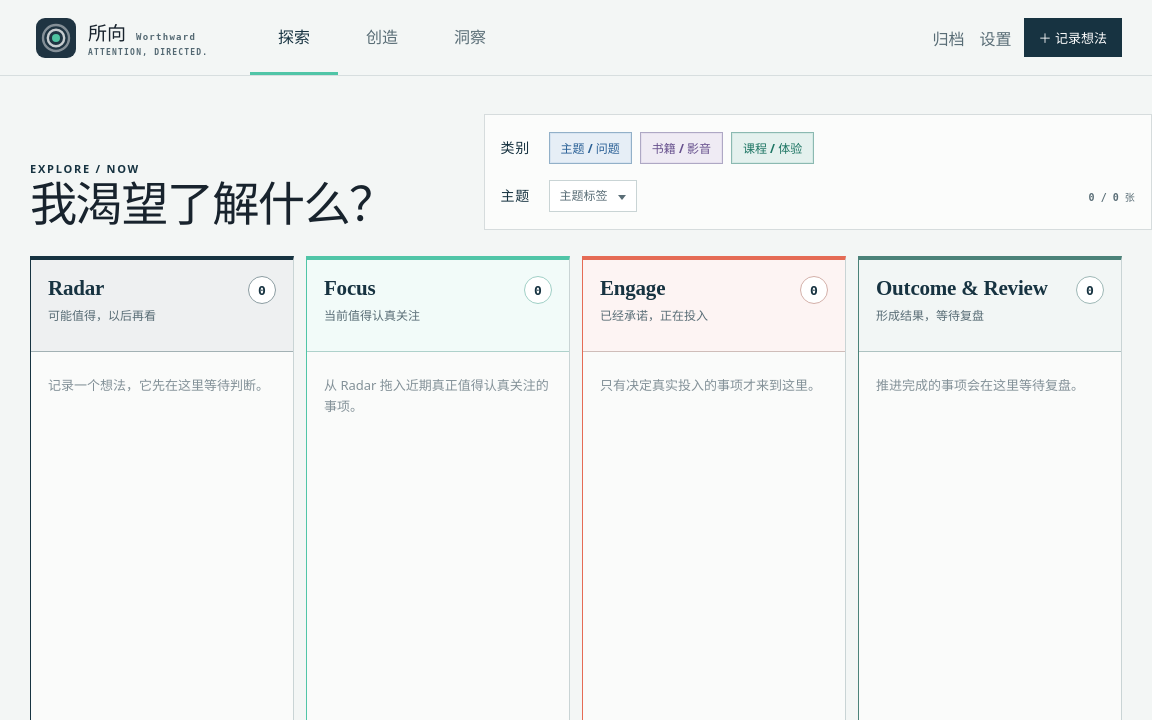
it: attention workbench interface › keeps rename and deletion isolated to the edited board
The image size is (1152, 720).
Step 1. Click the button with aria-label "打开设置" → (996, 38), box [977,18,1015,58]
(page scrolled)
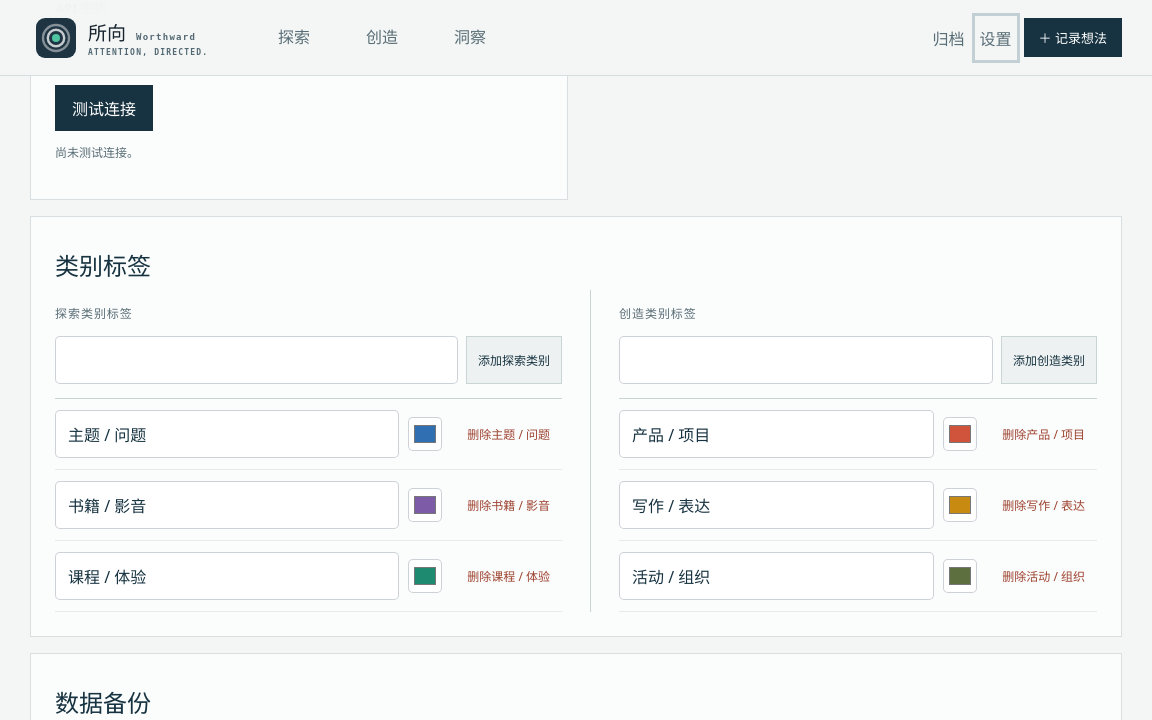
Step 2. Type "产品 / 项目" into the field named "新增探索类别" → (256, 360), box [55,336,458,384]
Step 3. Click the button "添加探索类别" → (514, 360), box [466,336,562,384]
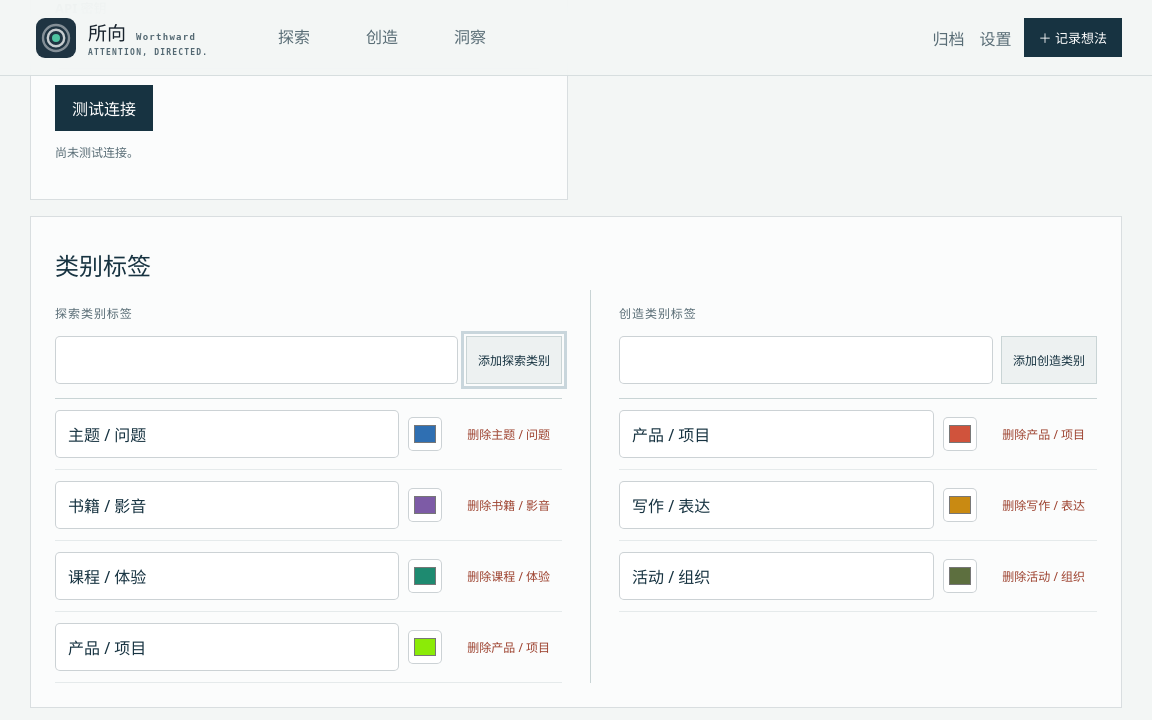
Step 4. Replace the text in the field named "探索类别名称：产品 / 项目" with "实践项目" → (227, 647), box [55,623,399,671]
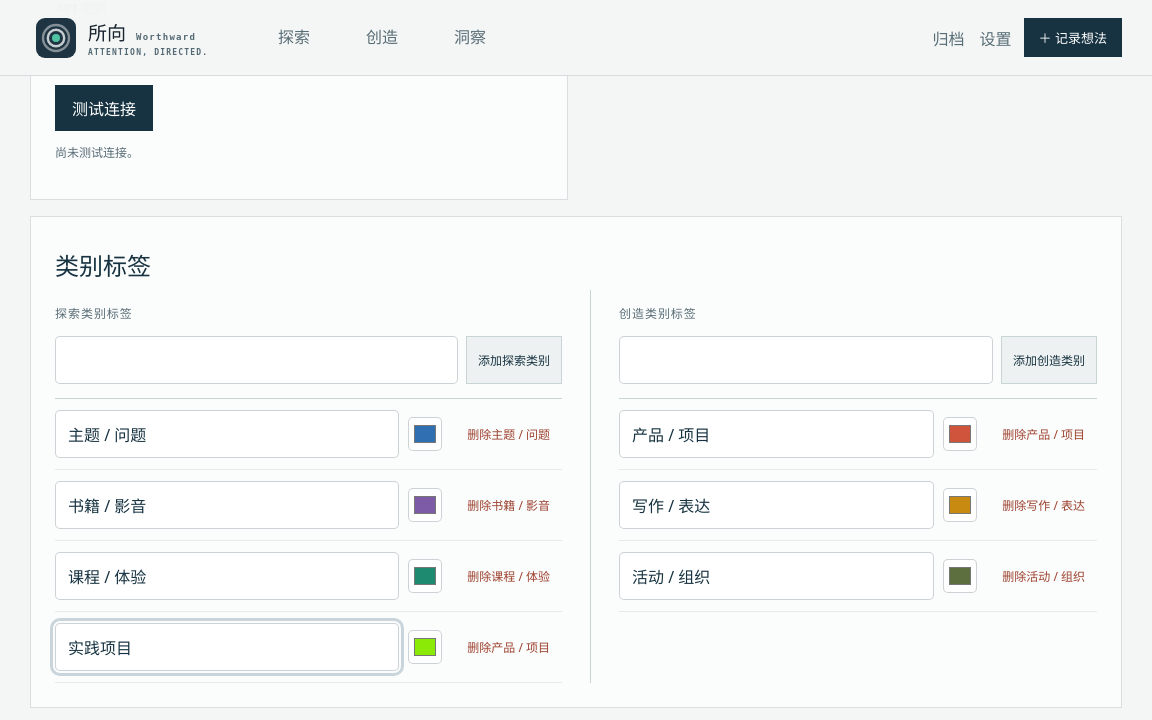
Step 5. Press Tab
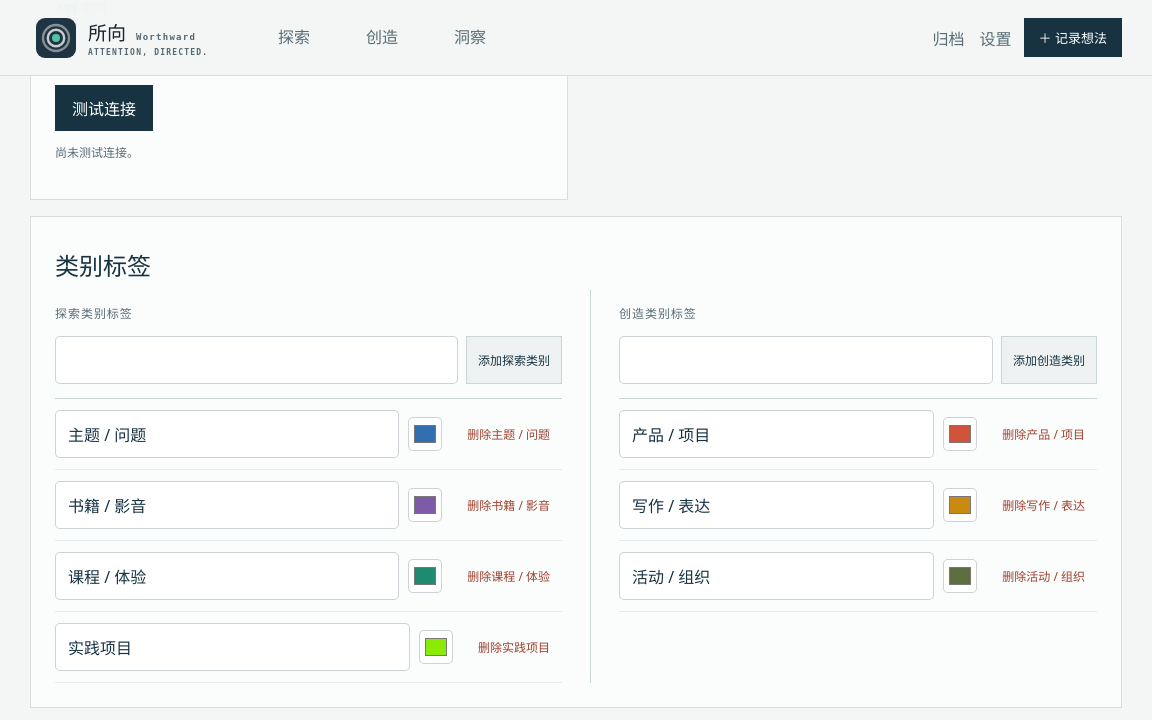
Expected: the field named "创造类别名称：产品 / 项目" is shown, [619,410,934,458]
Step 6. Click the button "删除实践项目" → (514, 647), box [466,629,562,665]
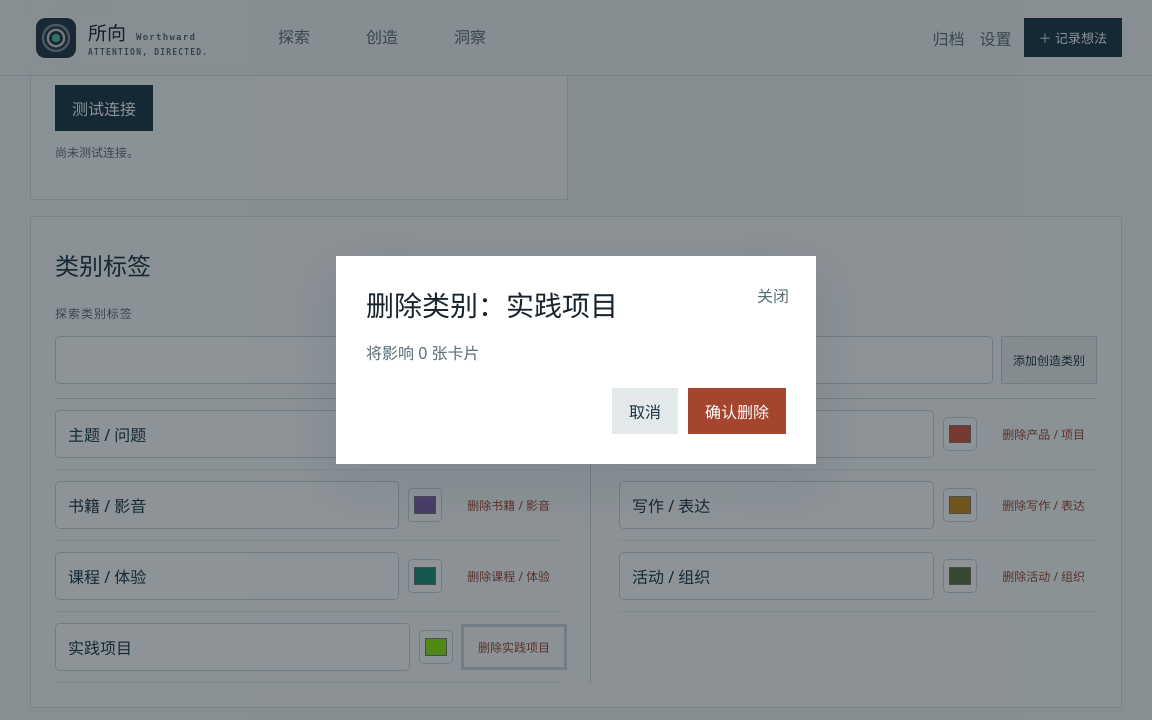
Step 7. Click the button "确认删除" → (737, 411), box [688,388,786,434]
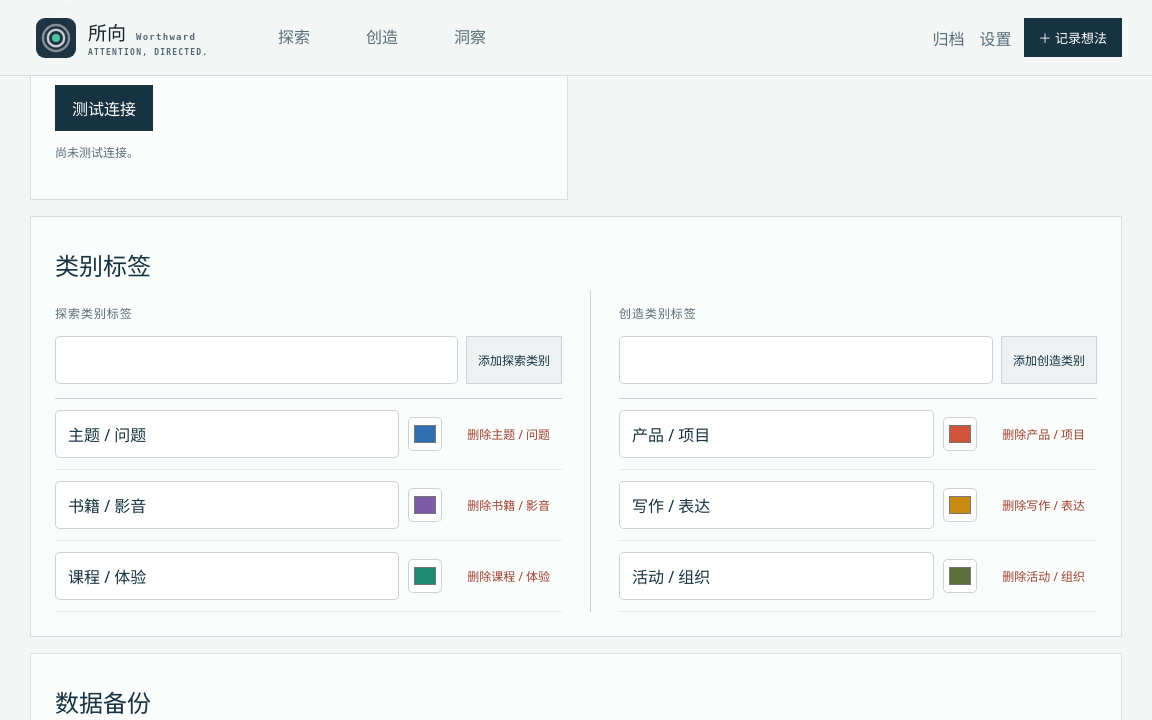
Expected: the field named "创造类别名称：产品 / 项目" is shown, [619,410,934,458]
Expected: the field labelled "探索类别名称：实践项目" is gone
